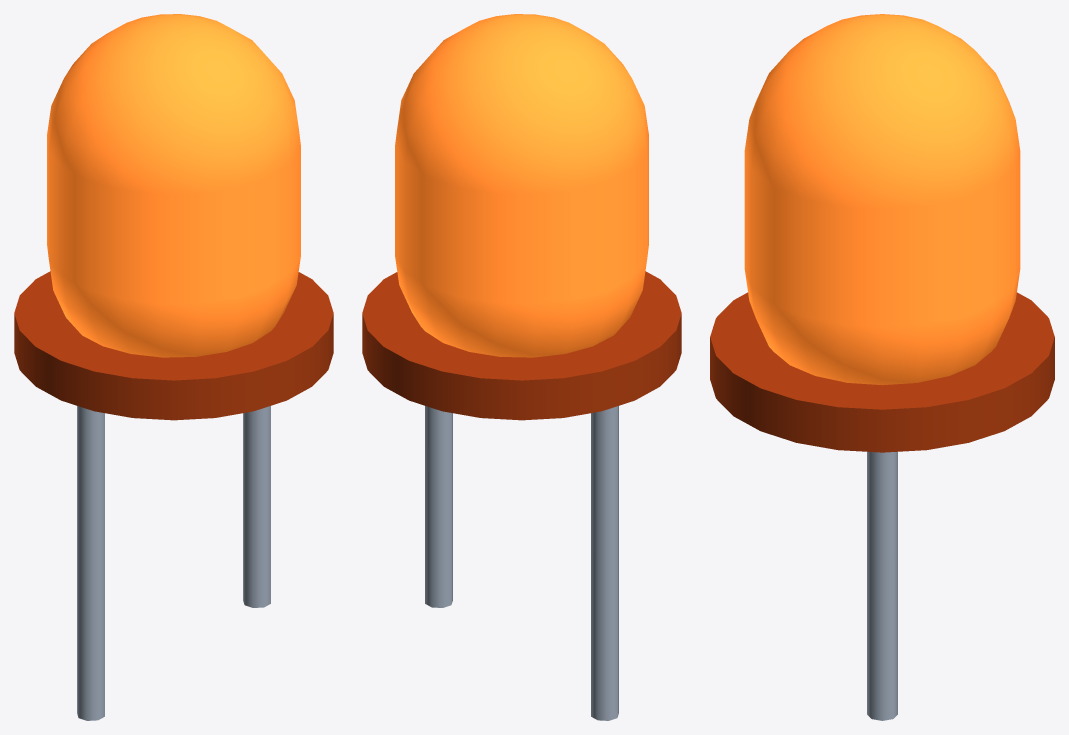
File: led-orange.gltf
3 renders of one model, left to right at view 1: azimuth 30°, elevation 25°; view 2: azimuth 150°, elevation 25°; view 3: azimuth 270°, elevation 25°, orthographic. The views are drawn at different scales.
Parts seen in each view (by area): view 1: lens, collar, anode, cathode; view 2: lens, collar, anode, cathode; view 3: lens, collar, cathode.
Part boxes in pixels (left/top/right/bottom): lens: left=47, top=14, right=300, bottom=357; collar: left=14, top=271, right=333, bottom=420; anode: left=77, top=406, right=104, bottom=720; cathode: left=243, top=406, right=270, bottom=607; lens: left=395, top=14, right=648, bottom=357; collar: left=362, top=271, right=681, bottom=420; anode: left=591, top=406, right=618, bottom=720; cathode: left=425, top=406, right=452, bottom=607; lens: left=744, top=14, right=1020, bottom=385; collar: left=710, top=292, right=1054, bottom=452; cathode: left=867, top=451, right=897, bottom=720.
Size of the model in its own units: 0.4 by 0.925 by 0.4.
